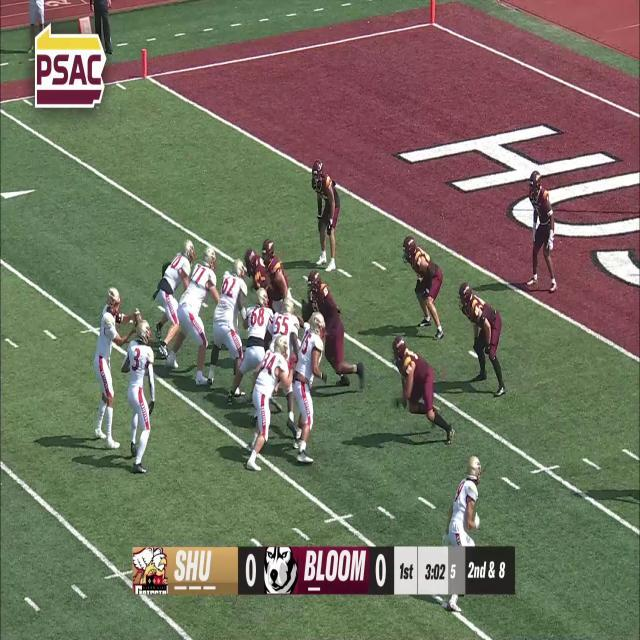football: (132, 308, 141, 328)
